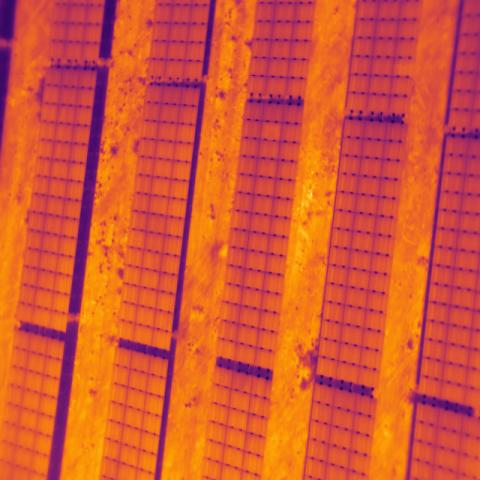fault: (392, 56, 413, 78), (262, 120, 280, 139)
